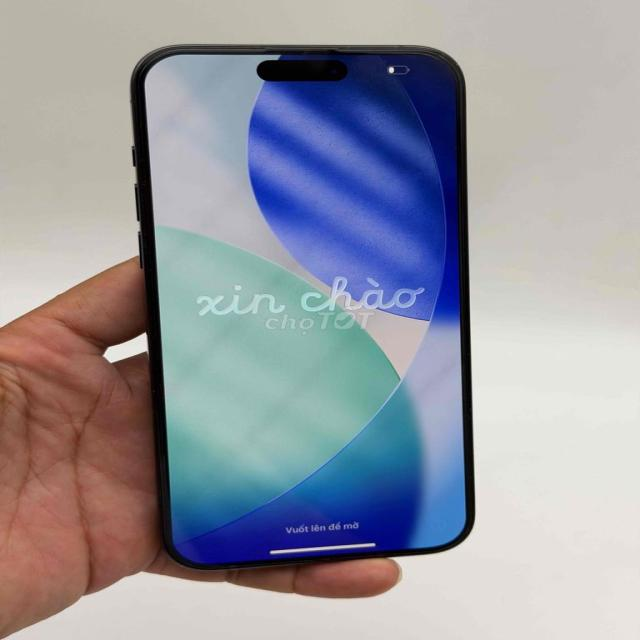gen_15: (113, 30, 495, 570)
